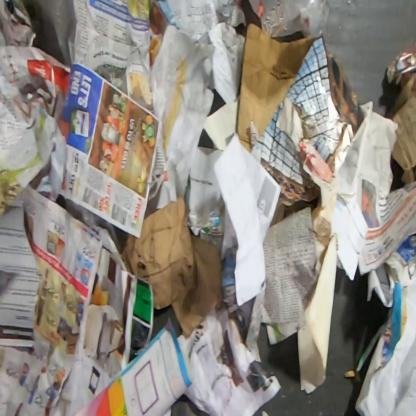cardboard: (118, 194, 224, 339), (235, 22, 320, 154), (185, 145, 226, 247), (384, 71, 415, 187), (385, 35, 415, 90)
soft_plastic: (248, 0, 331, 38)
